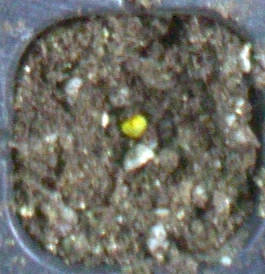chilli seed: (121, 115, 147, 137)
